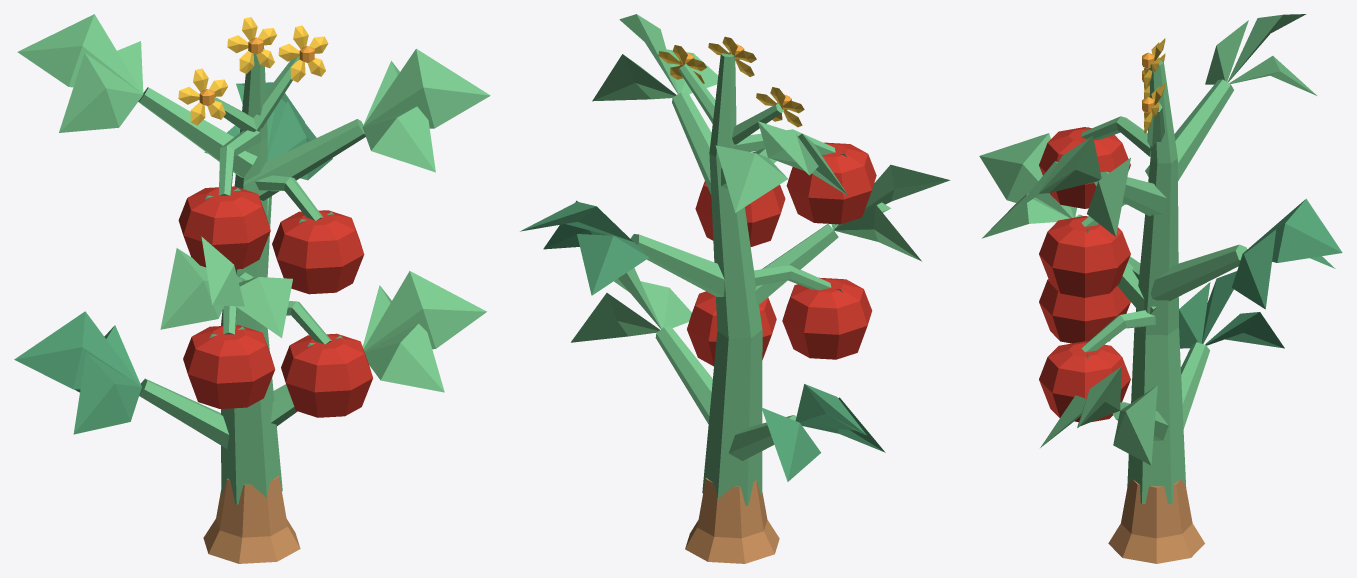
Rendered from 05-tomato.glb.
The picture shows the model from 3 angles, left to right: view 1: azimuth 30°, elevation 25°; view 2: azimuth 150°, elevation 25°; view 3: azimuth 270°, elevation 25°; orthographic projection. The views are drawn at different scales.
Visible parts, largest first — view 1: 05-tomato_Body; view 2: 05-tomato_Body; view 3: 05-tomato_Body.
Boxes of the visible parts, bbox=[...] form: 05-tomato_Body: bbox=[14, 14, 490, 563]; 05-tomato_Body: bbox=[520, 14, 950, 563]; 05-tomato_Body: bbox=[979, 14, 1342, 563].
Size of the model in its own units: 0.5363 by 0.7 by 0.4579.
1 material, 1 textured.
